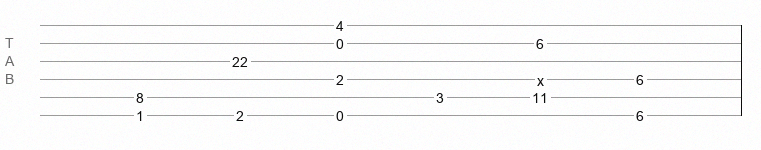0: (336, 108, 344, 118), (336, 36, 344, 46)
1: (136, 108, 144, 118)
11: (532, 90, 548, 100)
2: (236, 108, 244, 118), (336, 72, 344, 82)
22: (232, 54, 248, 64)
3: (436, 90, 444, 100)
4: (336, 18, 344, 28)
6: (536, 36, 544, 46), (636, 108, 644, 118), (636, 72, 644, 82)
8: (136, 90, 144, 100)
x: (537, 73, 544, 81)
